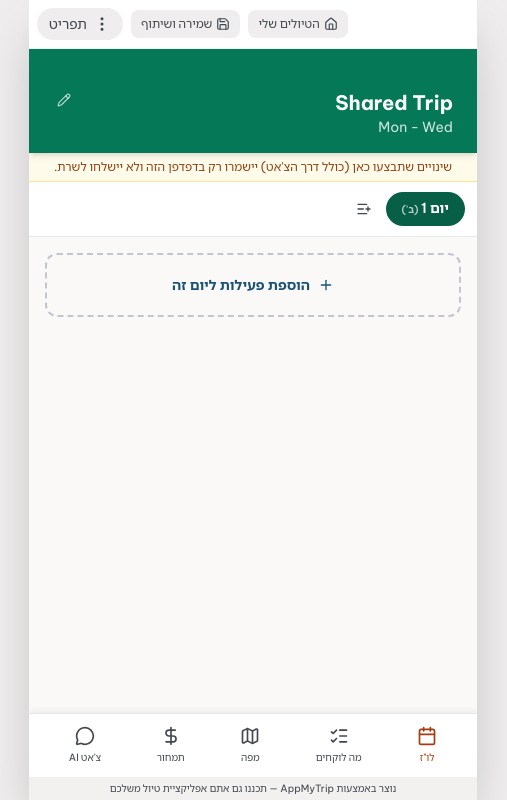
Scenario: App shared-trip viewer activity enrichment › enriches an activity added via the shared page's "+" button
This screenshot has width=507, height=800.
Click the button "הוספת פעילות ליום זה" at x=253, y=285, box [63,271,443,299]
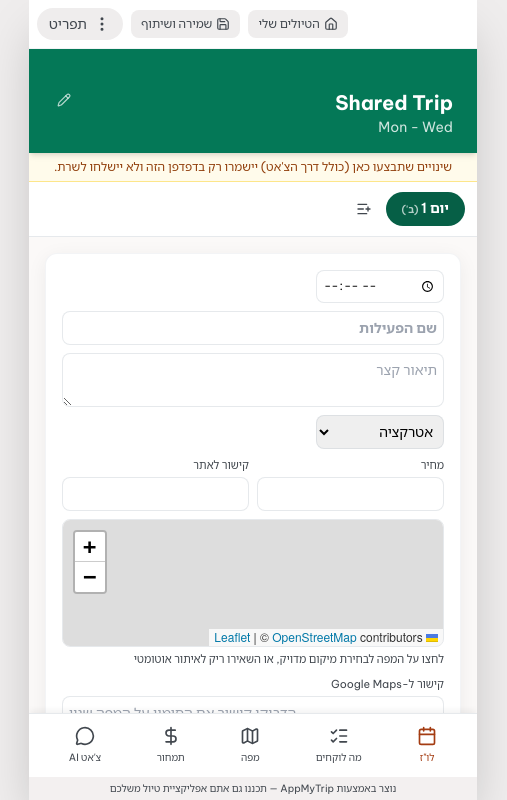
Type "Manually Added Spot" into the field with placeholder "שם הפעילות" at x=253, y=328, box [62,311,444,345]
(page scrolled)
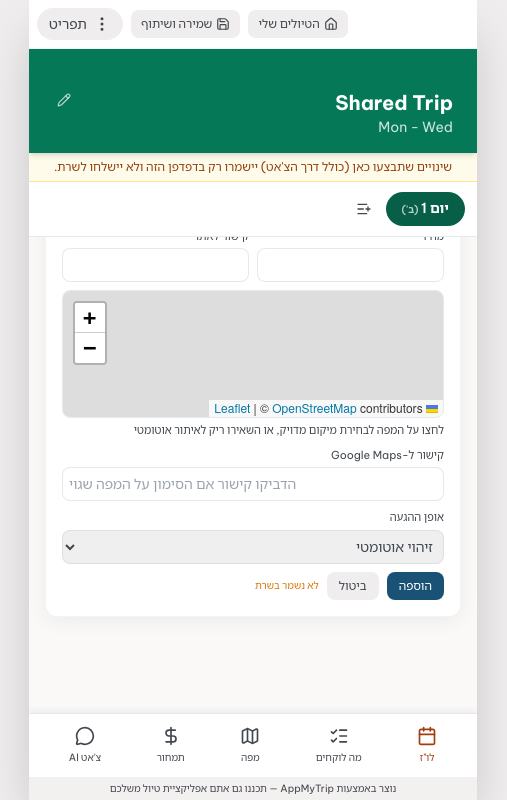
Click the button "הוספה" at x=415, y=586, box [387,572,444,600]
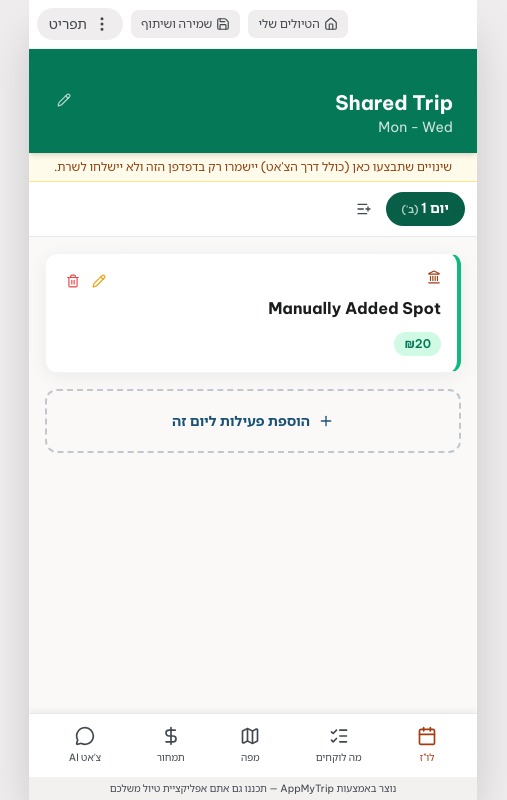
Result: the heading "Manually Added Spot" is shown at [268,298,441,318]
Result: the button "₪20" is shown at [394,332,441,356]
